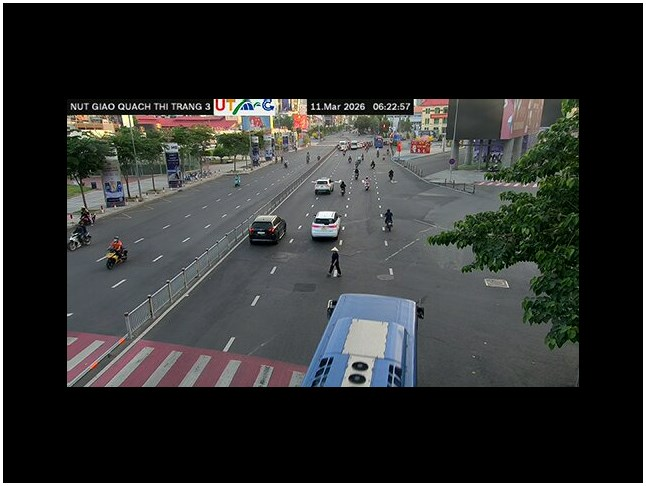car: (248, 215, 287, 245), (310, 210, 343, 241), (314, 178, 333, 196)
motorbike: (68, 226, 92, 251), (103, 251, 123, 270), (104, 253, 119, 271)
truck: (297, 292, 423, 386)
